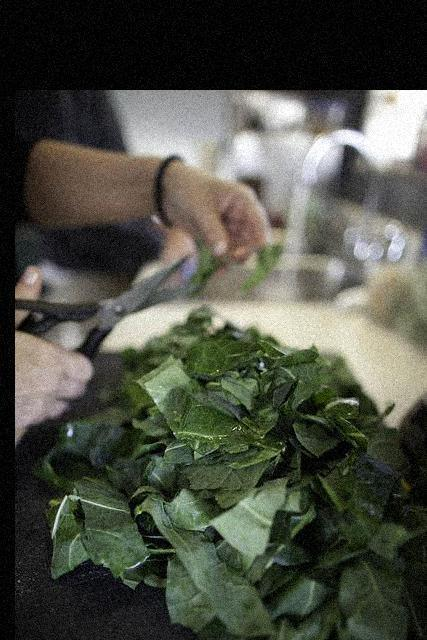Lavaplatos: (137, 123, 399, 303)
